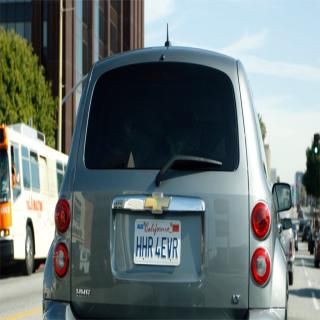license: (126, 215, 191, 271)
